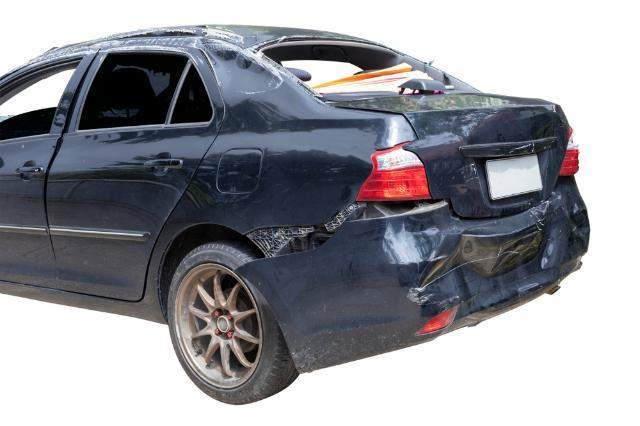crack: (113, 31, 199, 41)
dent: (400, 196, 590, 313), (196, 39, 282, 94)
dislocated part: (236, 177, 594, 377)
scratch: (20, 37, 196, 69)
